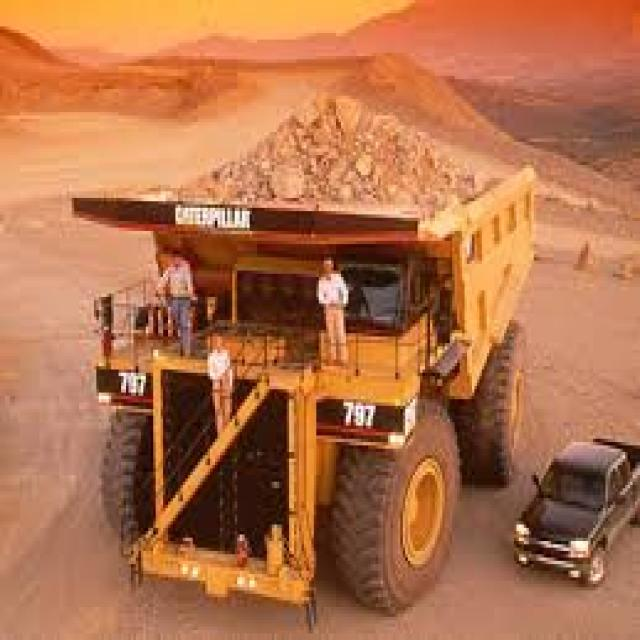dump_truck: (73, 92, 534, 613)
